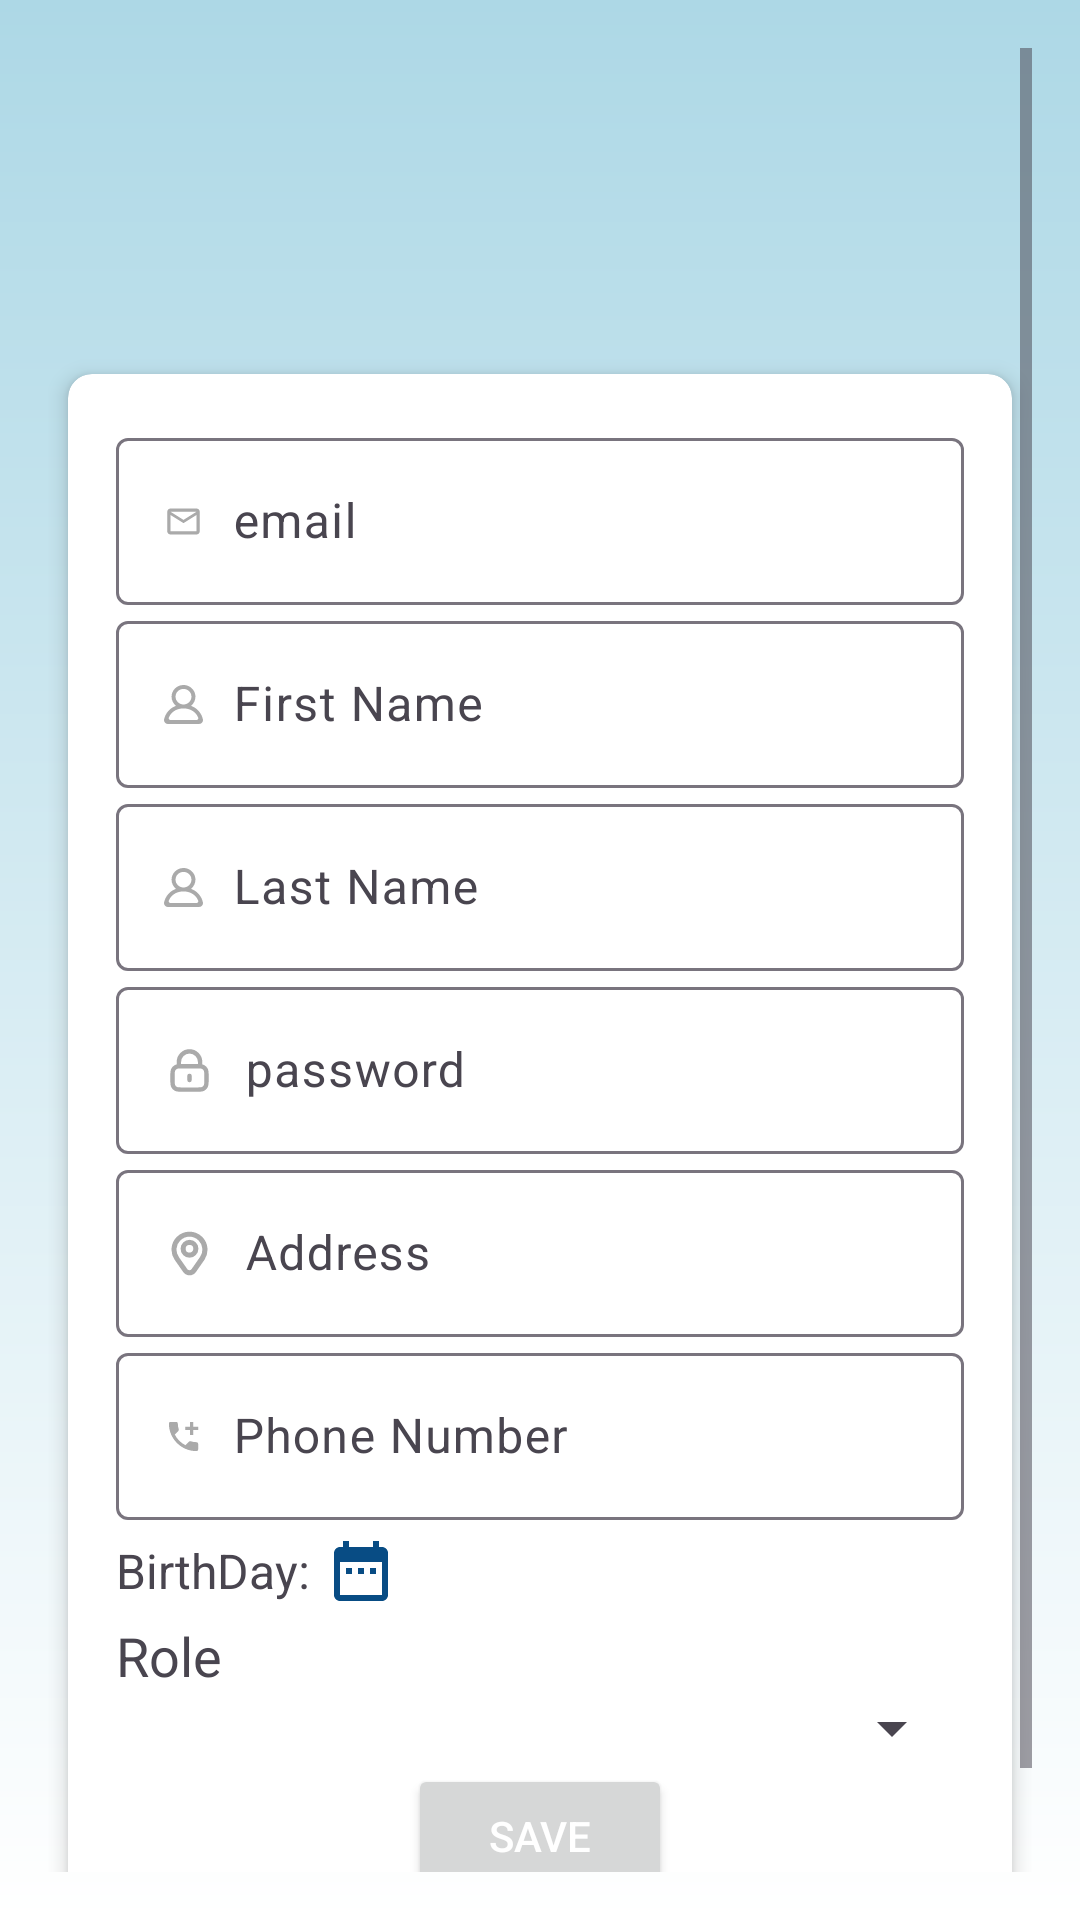

Screen size 1080w x 1920h. Icon name, then its center in pixels as (x=x, y=y):
date picker: (x=361, y=1571)
